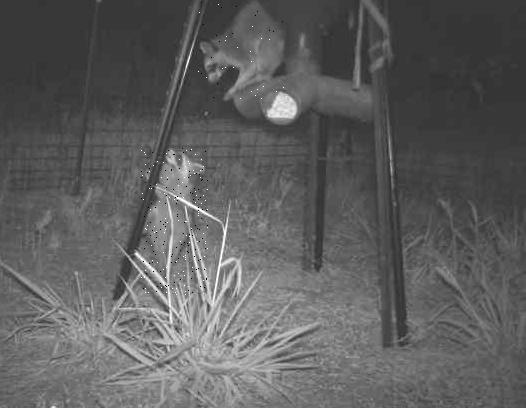Raccoon: (141, 148, 208, 295), (198, 0, 288, 103)
